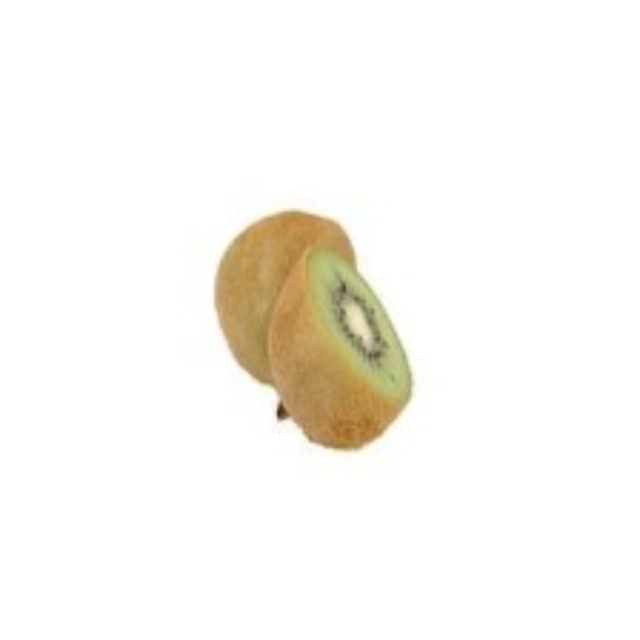kiwi: (206, 203, 418, 450)
